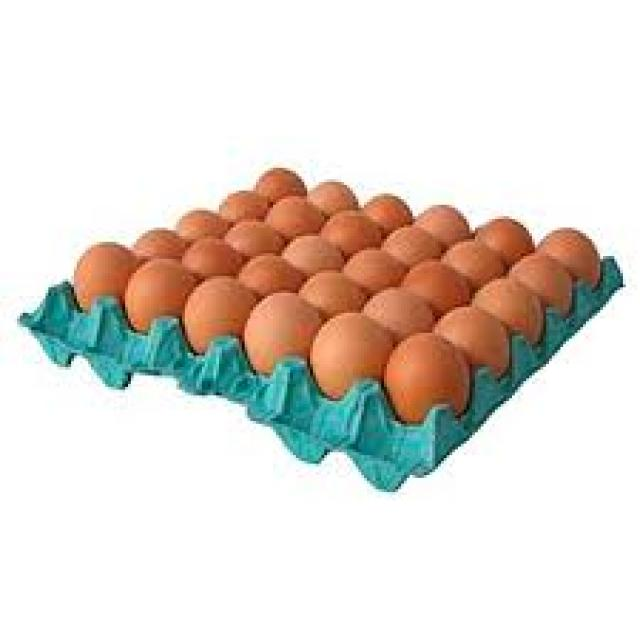Egg: (172, 266, 264, 385), (382, 328, 474, 440), (119, 244, 217, 341), (240, 283, 316, 388), (314, 302, 394, 400), (418, 285, 508, 368), (57, 236, 155, 304), (359, 275, 441, 339), (165, 196, 255, 252), (434, 234, 517, 291), (530, 226, 614, 282), (235, 248, 311, 304), (470, 268, 535, 328), (392, 255, 456, 313), (506, 245, 575, 294), (253, 160, 320, 210), (261, 195, 332, 242), (306, 169, 366, 221), (345, 177, 414, 221), (400, 197, 470, 240), (466, 214, 539, 254), (225, 212, 282, 262), (339, 243, 402, 288), (377, 217, 445, 256), (218, 181, 278, 223), (329, 213, 393, 252), (279, 228, 335, 270), (297, 262, 347, 308), (129, 218, 177, 262), (185, 231, 221, 265)
